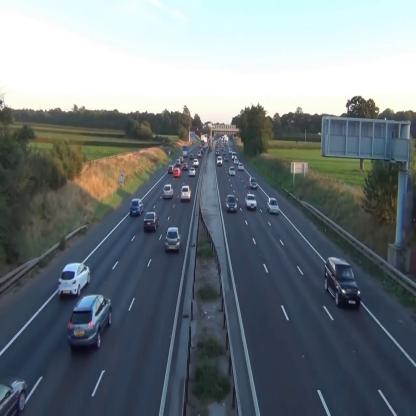car: (68, 294, 112, 350), (324, 257, 361, 310), (59, 261, 91, 298), (0, 377, 27, 416), (165, 227, 182, 254), (144, 211, 160, 233), (129, 198, 145, 217), (244, 193, 258, 211), (225, 194, 238, 212), (267, 197, 279, 216), (180, 185, 192, 202), (163, 184, 174, 199), (249, 177, 257, 189), (173, 168, 182, 178), (216, 155, 224, 166), (228, 166, 236, 176), (189, 166, 196, 176), (168, 164, 174, 174), (238, 162, 244, 172), (193, 158, 199, 167), (183, 162, 188, 171), (176, 158, 180, 166), (197, 151, 201, 157)
lorry: (182, 144, 188, 158)
